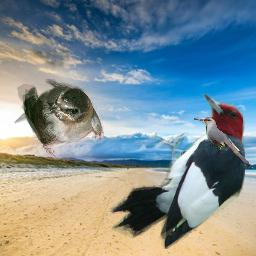Cuckoo: (194, 117, 254, 170)
Swallow: (12, 79, 104, 161)
Woodpecker: (109, 93, 245, 249)
